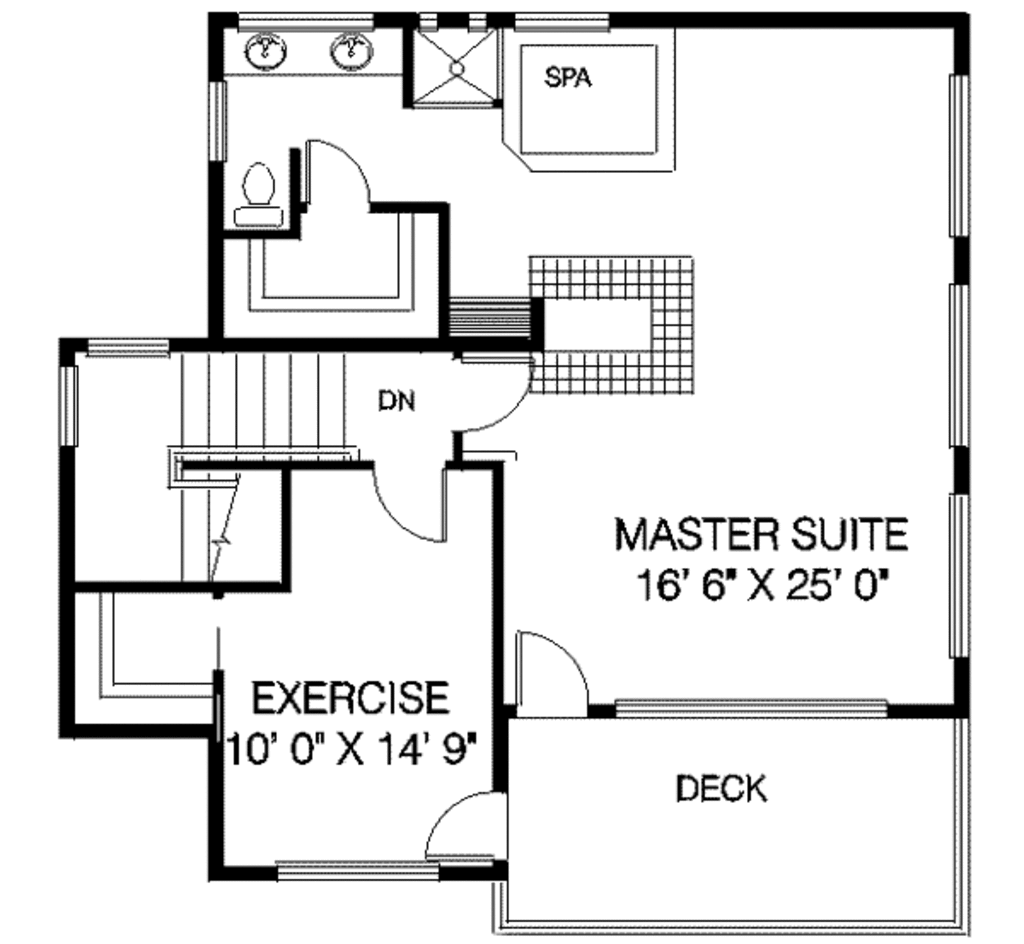door: (513, 628, 595, 725), (455, 352, 542, 443), (375, 462, 449, 563), (423, 786, 512, 863), (301, 129, 379, 216)
large_sink: (233, 158, 276, 228)
small_sink: (236, 36, 391, 83)
stairs: (169, 349, 358, 592)
window: (275, 858, 438, 888), (950, 493, 977, 660), (945, 279, 972, 445), (946, 78, 971, 235), (238, 8, 378, 35), (518, 9, 616, 36), (202, 76, 232, 163), (86, 333, 165, 359), (55, 368, 81, 445)
